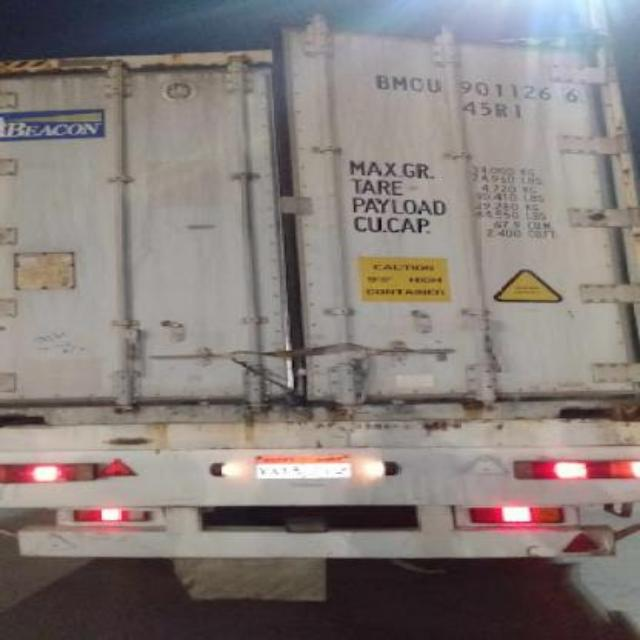0: (478, 80, 494, 100)
1: (498, 82, 524, 100), (494, 78, 506, 104)
2: (524, 80, 540, 104)
6: (564, 81, 586, 105), (536, 79, 556, 105)
9: (452, 78, 474, 99)
B: (374, 74, 390, 88)
M: (391, 74, 412, 96)
O: (408, 75, 424, 98)
U: (431, 69, 444, 95)
